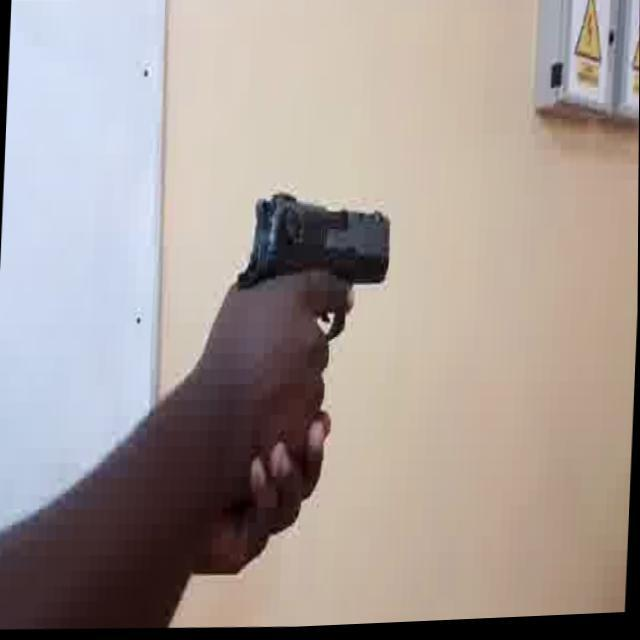weapon: (232, 185, 393, 356)
